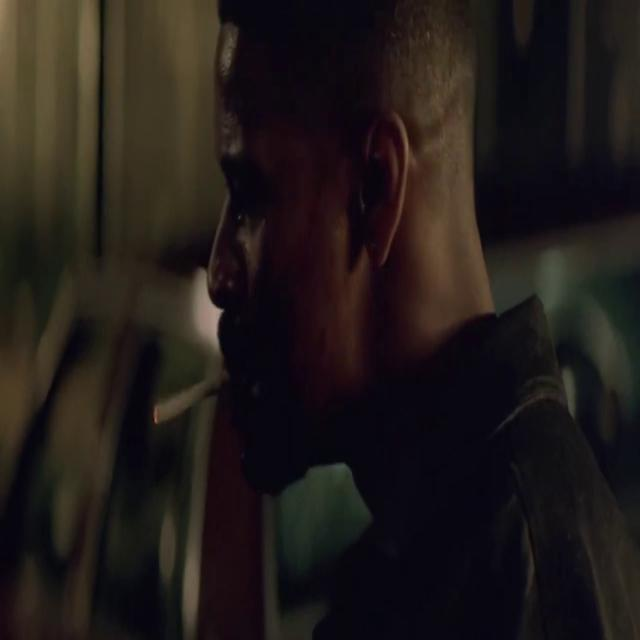Smooking: (142, 362, 240, 437)
